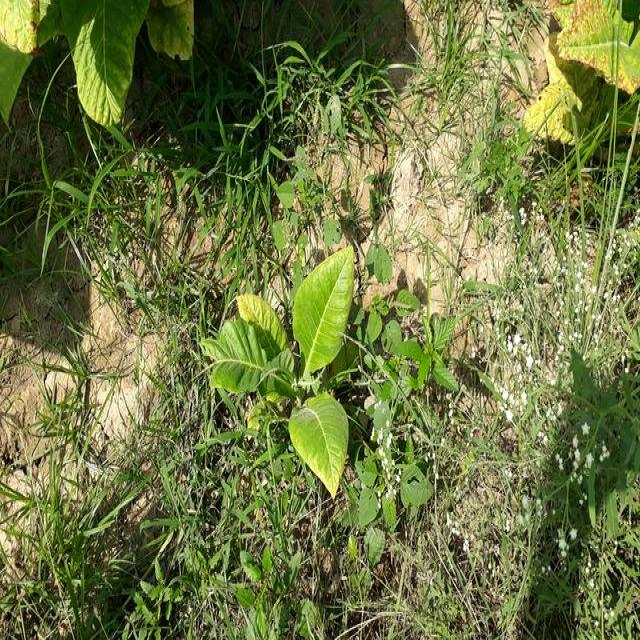crop: (210, 252, 364, 486), (2, 0, 198, 119), (534, 0, 634, 157)
